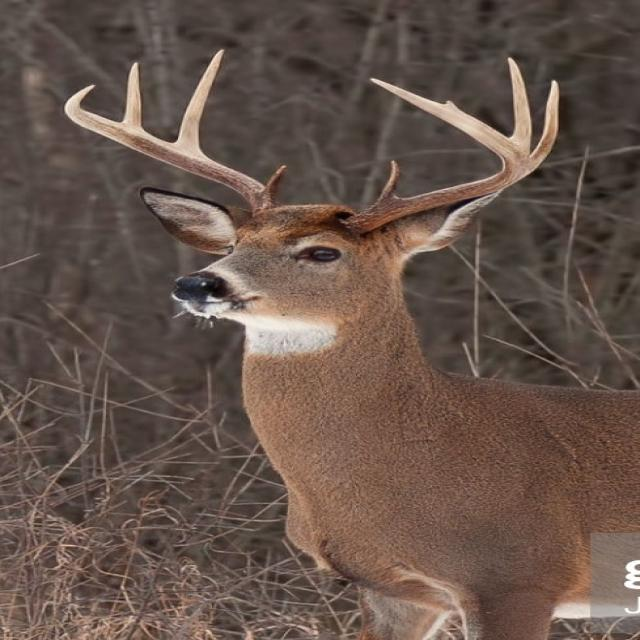L-F: (347, 77, 531, 232)
L-G1: (377, 160, 401, 200)
R-F: (65, 85, 276, 215)
R-G1: (263, 164, 288, 197)
R-G2: (172, 49, 225, 154)
R-G3: (123, 61, 142, 128)
